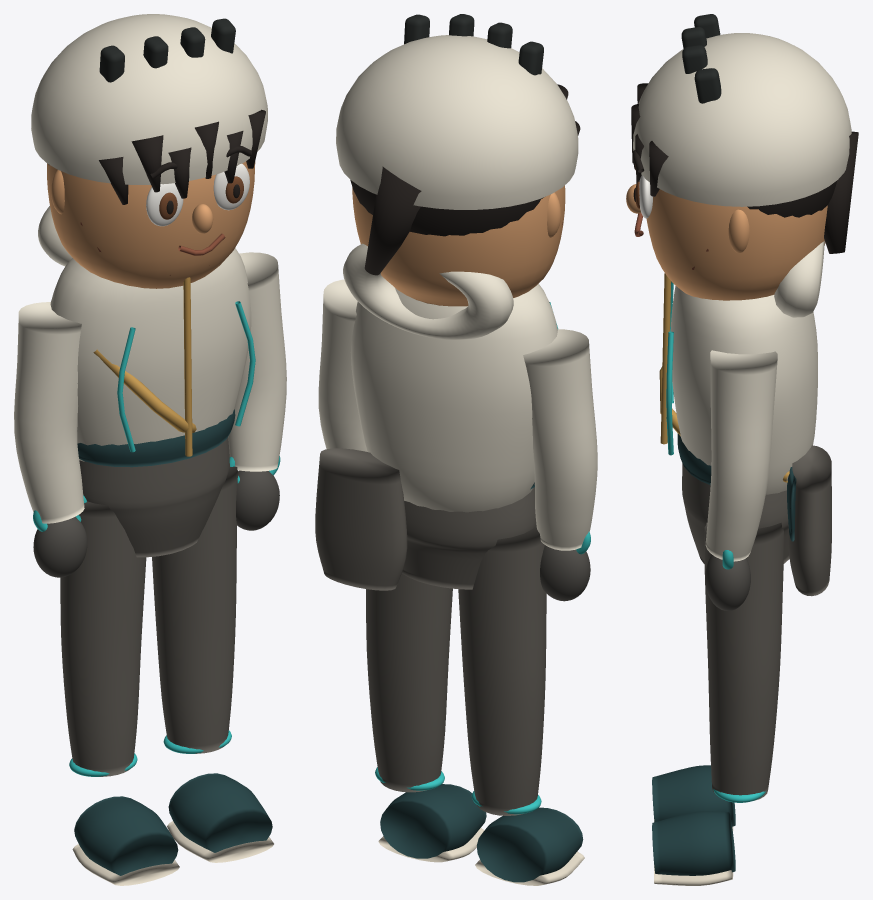
The model's file is rival.glb.
3 views of the same model, side by side, from view 1: azimuth 30°, elevation 25°; view 2: azimuth 150°, elevation 25°; view 3: azimuth 270°, elevation 25° (orthographic). The views are drawn at different scales.
Parts seen in each view (by area): view 1: rival_helmet_shell, rival_jacket_body, rival_leg_l, rival_leg_r, rival_head, rival_arm_l, rival_pelvis, rival_arm_r, rival_shoe_l, rival_shoe_r, rival_waist_band, rival_glove_l (+19 smaller); view 2: rival_helmet_shell, rival_jacket_body, rival_leg_l, rival_leg_r, rival_arm_l, rival_satchel, rival_head, rival_pelvis, rival_hood, rival_shoe_l, rival_arm_r, rival_shoe_r (+7 smaller); view 3: rival_helmet_shell, rival_jacket_body, rival_leg_r, rival_head, rival_arm_r, rival_satchel, rival_shoe_r, rival_shoe_l, rival_pelvis, rival_hood, rival_rear_hair, rival_glove_r (+10 smaller).
Boxes of the visible parts, <box> form: rival_helmet_shell: <box>31,14,267,184</box>; rival_jacket_body: <box>50,248,251,461</box>; rival_leg_l: <box>60,501,146,776</box>; rival_leg_r: <box>152,466,237,753</box>; rival_head: <box>47,161,255,288</box>; rival_arm_l: <box>14,302,84,523</box>; rival_pelvis: <box>79,437,229,557</box>; rival_arm_r: <box>228,252,286,471</box>; rival_shoe_l: <box>74,796,178,875</box>; rival_shoe_r: <box>168,773,272,852</box>; rival_waist_band: <box>77,409,235,467</box>; rival_glove_l: <box>33,516,87,577</box>; rival_helmet_shell: <box>336,35,578,209</box>; rival_jacket_body: <box>350,283,557,512</box>; rival_leg_l: <box>458,525,546,815</box>; rival_leg_r: <box>366,573,452,792</box>; rival_arm_l: <box>523,329,597,550</box>; rival_satchel: <box>315,448,407,590</box>; rival_head: <box>352,185,565,306</box>; rival_pelvis: <box>402,487,536,589</box>; rival_hood: <box>343,243,513,339</box>; rival_shoe_l: <box>476,807,583,882</box>; rival_arm_r: <box>318,279,367,451</box>; rival_shoe_r: <box>380,784,486,858</box>; rival_helmet_shell: <box>633,33,851,206</box>; rival_jacket_body: <box>670,285,817,494</box>; rival_leg_r: <box>704,522,784,800</box>; rival_head: <box>646,189,827,300</box>; rival_arm_r: <box>705,350,777,561</box>; rival_satchel: <box>788,445,831,596</box>; rival_shoe_r: <box>652,811,735,875</box>; rival_shoe_l: <box>652,765,735,826</box>; rival_pelvis: <box>682,463,789,563</box>; rival_hood: <box>774,241,824,317</box>; rival_rear_hair: <box>824,131,858,253</box>; rival_glove_r: <box>705,555,750,610</box>.
Bounding box in the file's own units: 1.52 × 4.49 × 1.16.
